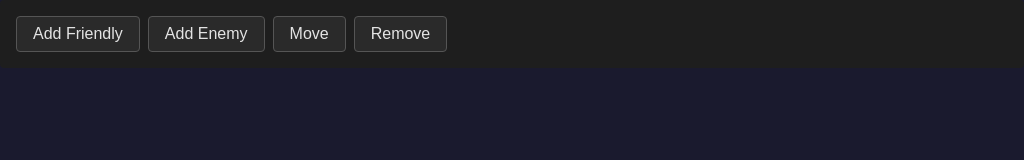
Test: CharacterControls - Remove Button › should return to disabled after removing (selection cleared)
This screenshot has width=1024, height=160.
Click the button "Remove" at (400, 34), box 354,16 -> 447,52
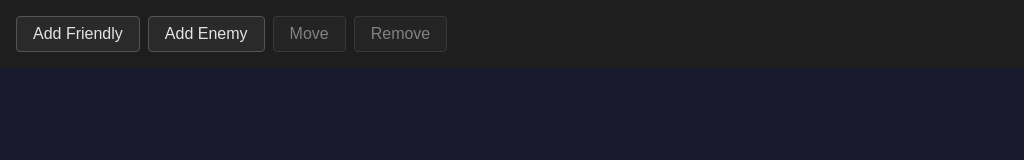
Expected: the button "Remove" is disabled, 354,16 -> 447,52
